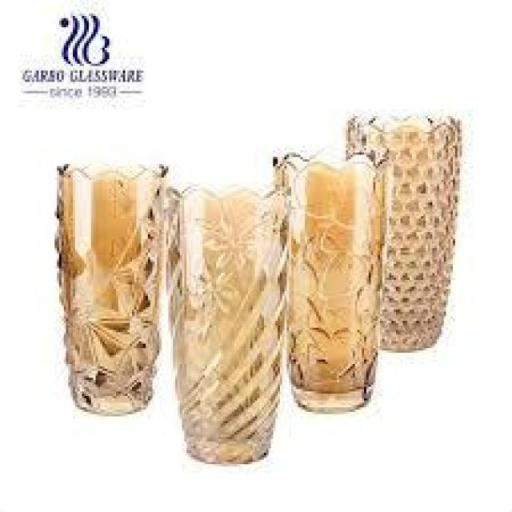glass: (166, 176, 292, 463), (335, 108, 472, 358), (279, 149, 382, 413), (56, 166, 164, 413)
